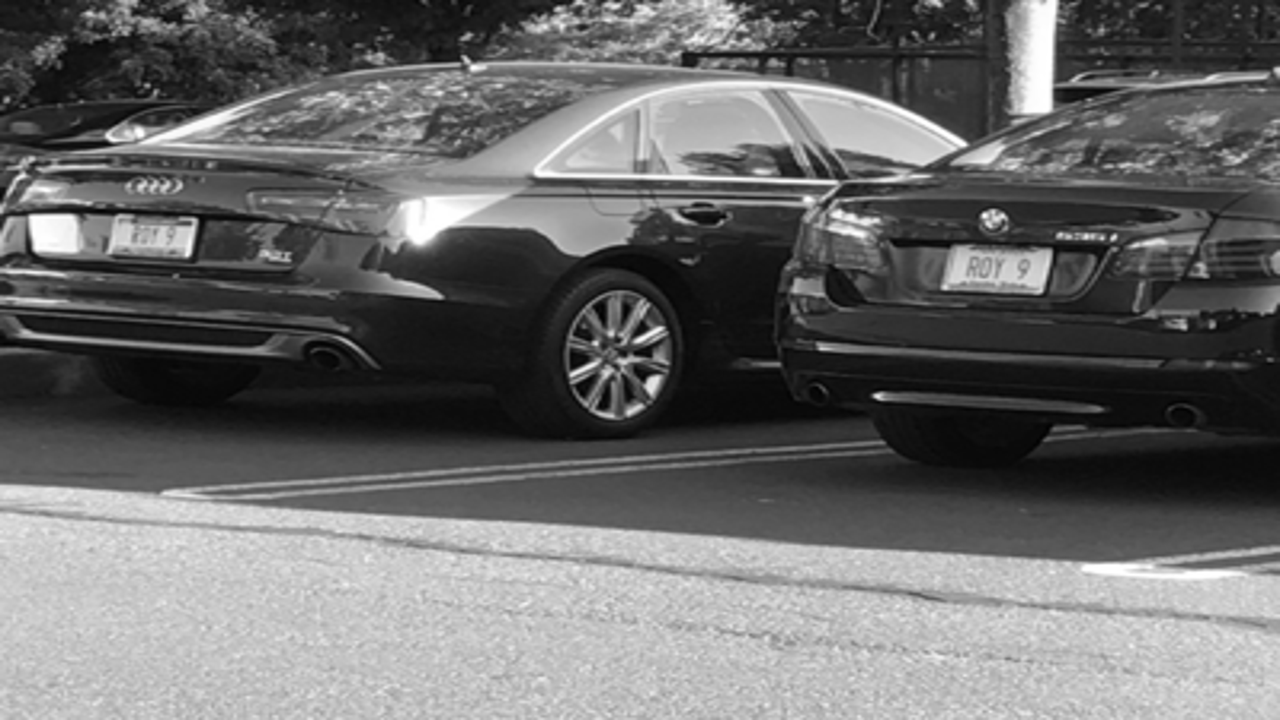license: (938, 236, 1057, 303), (105, 210, 201, 265)
